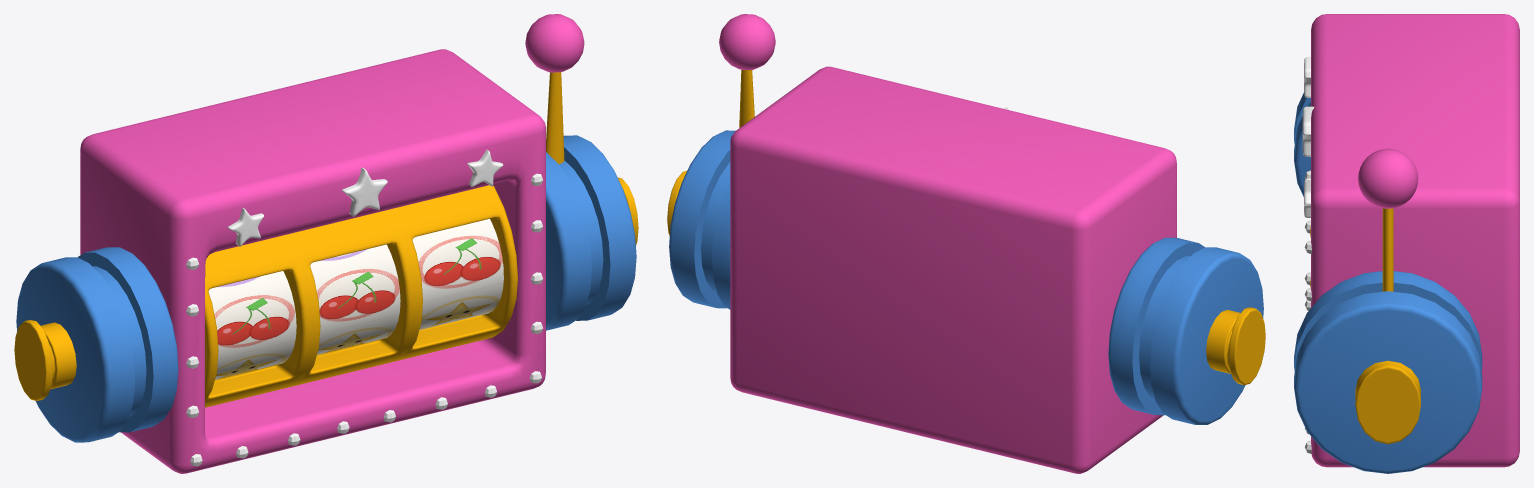
File: Jackpot.fbx
3 views of the same model, side by side, from view 1: azimuth 30°, elevation 25°; view 2: azimuth 150°, elevation 25°; view 3: azimuth 270°, elevation 25° (orthographic). The views are drawn at different scales.
Parts seen in each view (by area): view 1: Jackpot, Cylinder.004, Cylinder.008, Cylinder.005, Cylinder.007; view 2: Jackpot, Cylinder.007; view 3: Jackpot, Cylinder.007.
Part boxes in pixels (x1=…): Jackpot: x1=14, y1=49, x2=638, y2=473; Cylinder.004: x1=412, y1=218, x2=503, y2=329; Cylinder.008: x1=310, y1=244, x2=400, y2=354; Cylinder.005: x1=208, y1=271, x2=296, y2=379; Cylinder.007: x1=525, y1=14, x2=584, y2=164; Jackpot: x1=667, y1=66, x2=1265, y2=473; Cylinder.007: x1=719, y1=14, x2=775, y2=127; Jackpot: x1=1294, y1=14, x2=1519, y2=473; Cylinder.007: x1=1358, y1=148, x2=1418, y2=291.
Bounding box in the file's own units: 2.2 × 1.19 × 0.7157.
5 materials, 1 textured.
